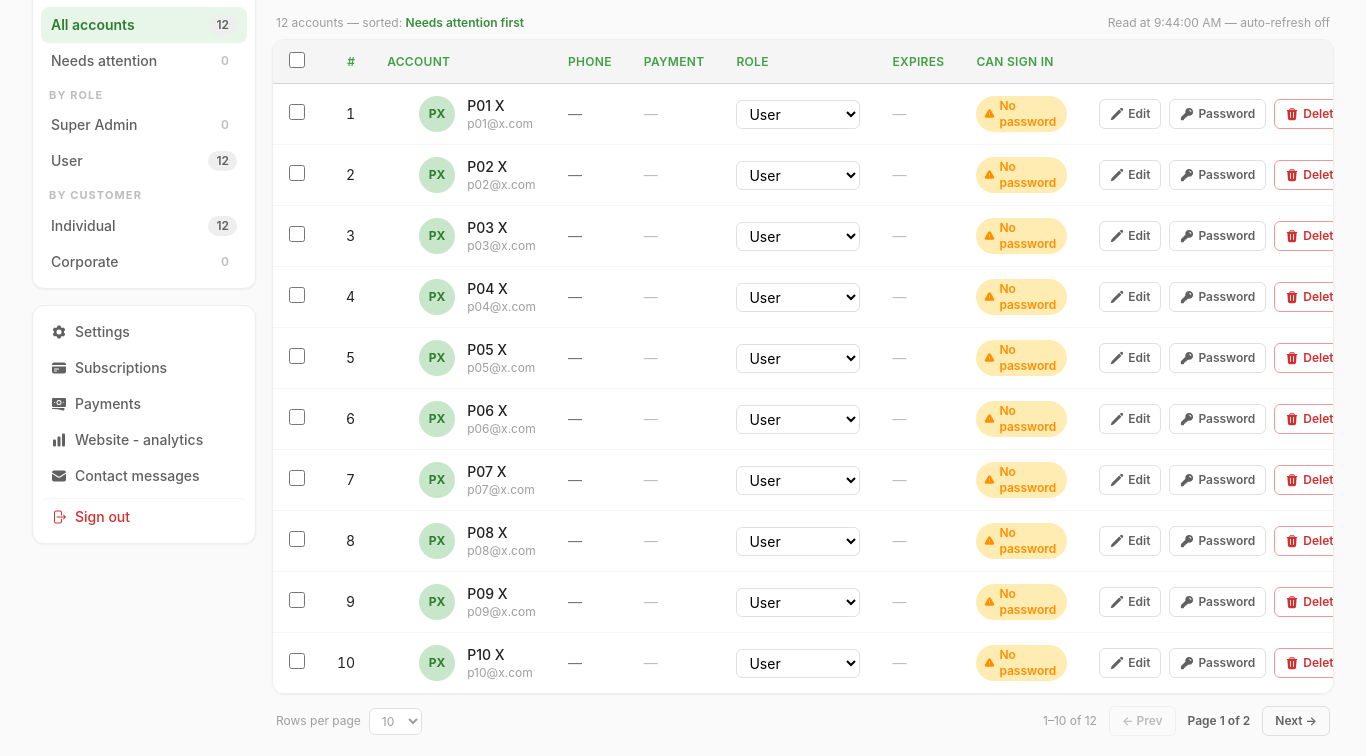
it: pagination › a search pages the accounts it matched, from the first page
(page scrolled)
Click the button "Next →".
click(1296, 721)  # box [1262,706,1330,736]
(page scrolled)
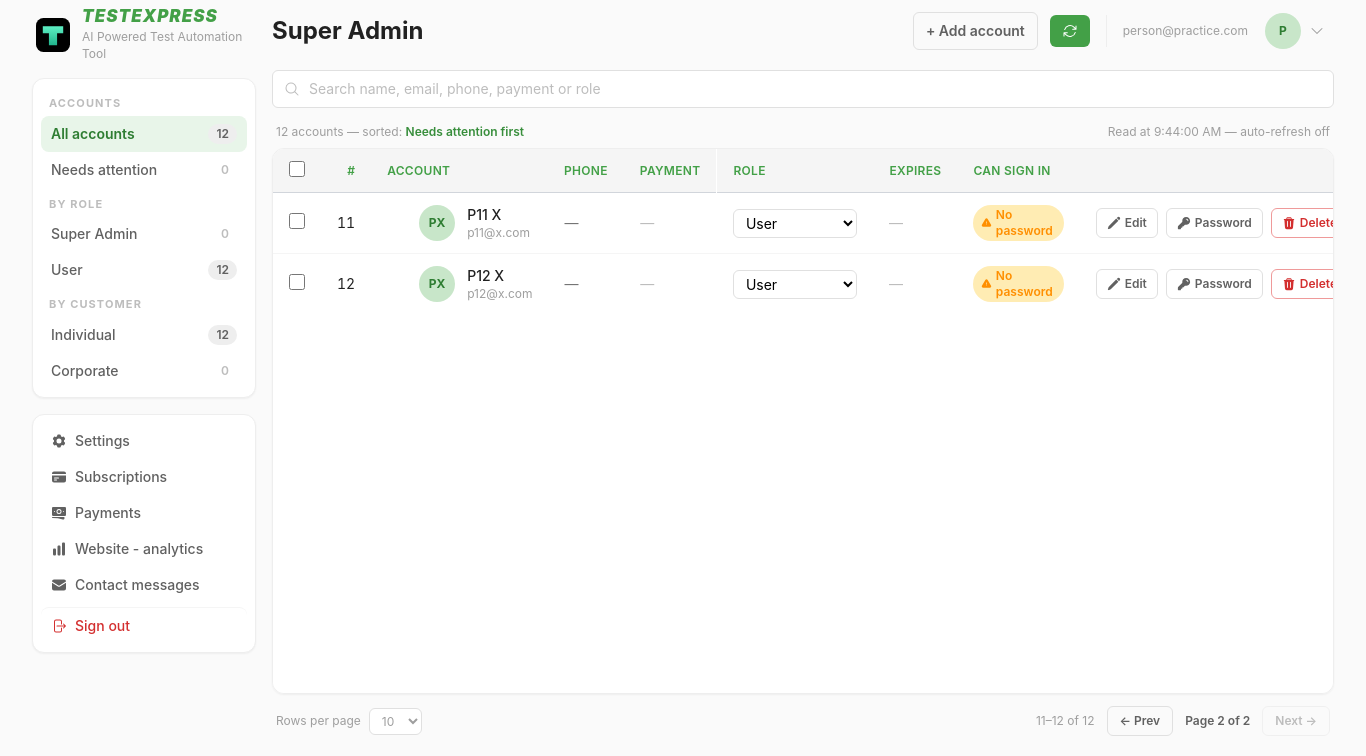
Type "p1" into the search field with placeholder "Search name, email, phone, payment or role".
click(803, 89); type("p1")  # box [272,70,1334,108]
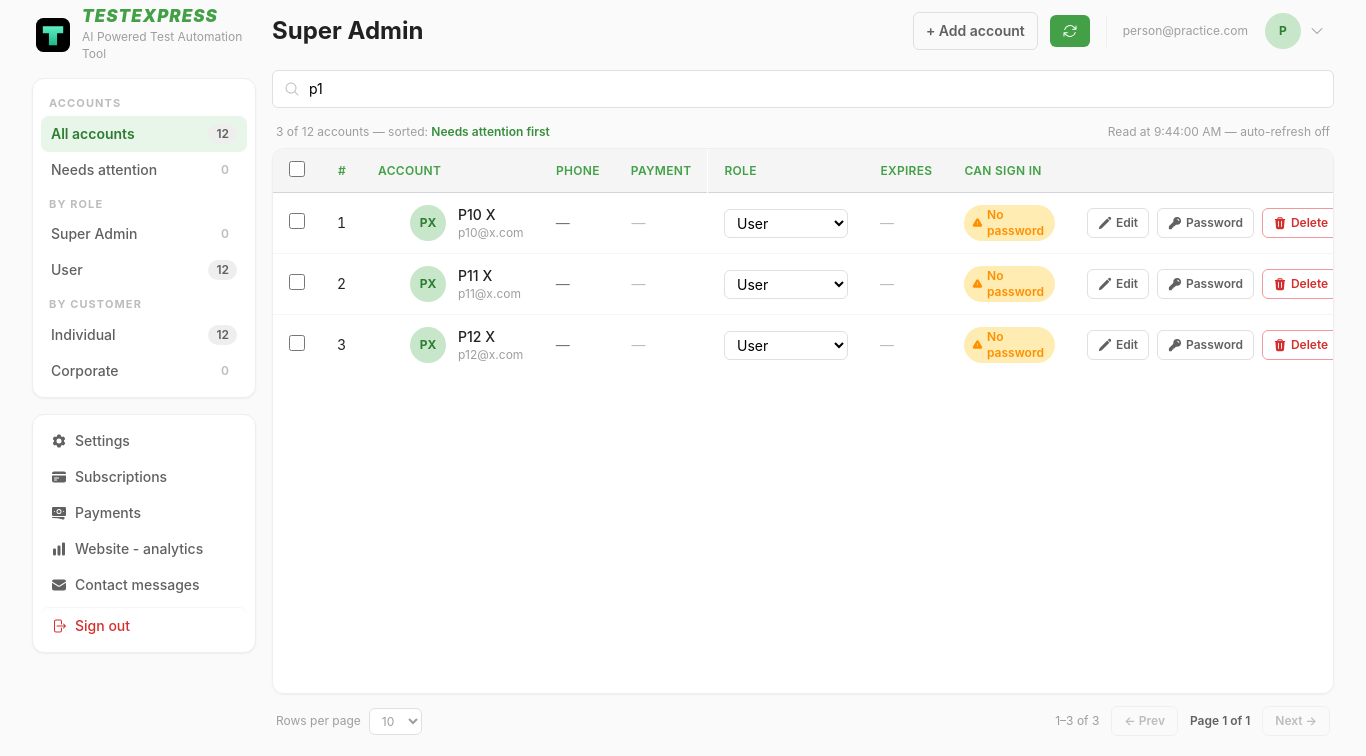
expect the navigation bar named "pagination" shows "1–3 of 3": met, box [1055,713,1099,728]
expect the navigation bar named "pagination" shows "Page 1 of 1": met, box [272,706,1334,736]
